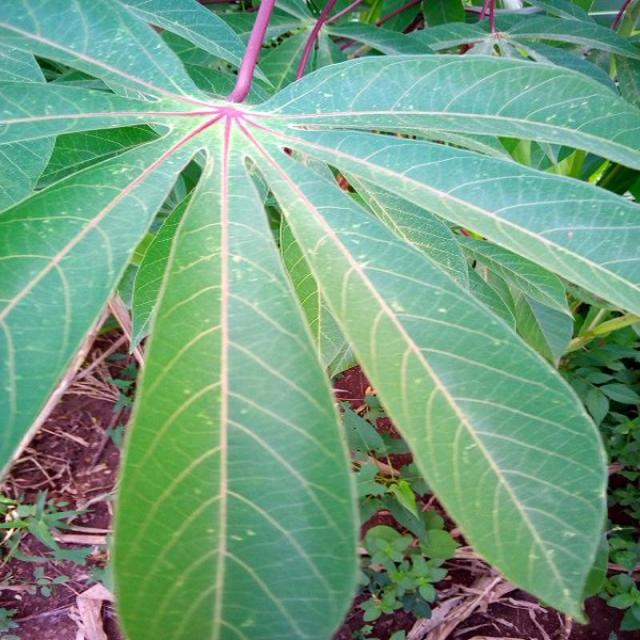cassava leaf: (1, 1, 638, 637), (110, 113, 360, 638)
